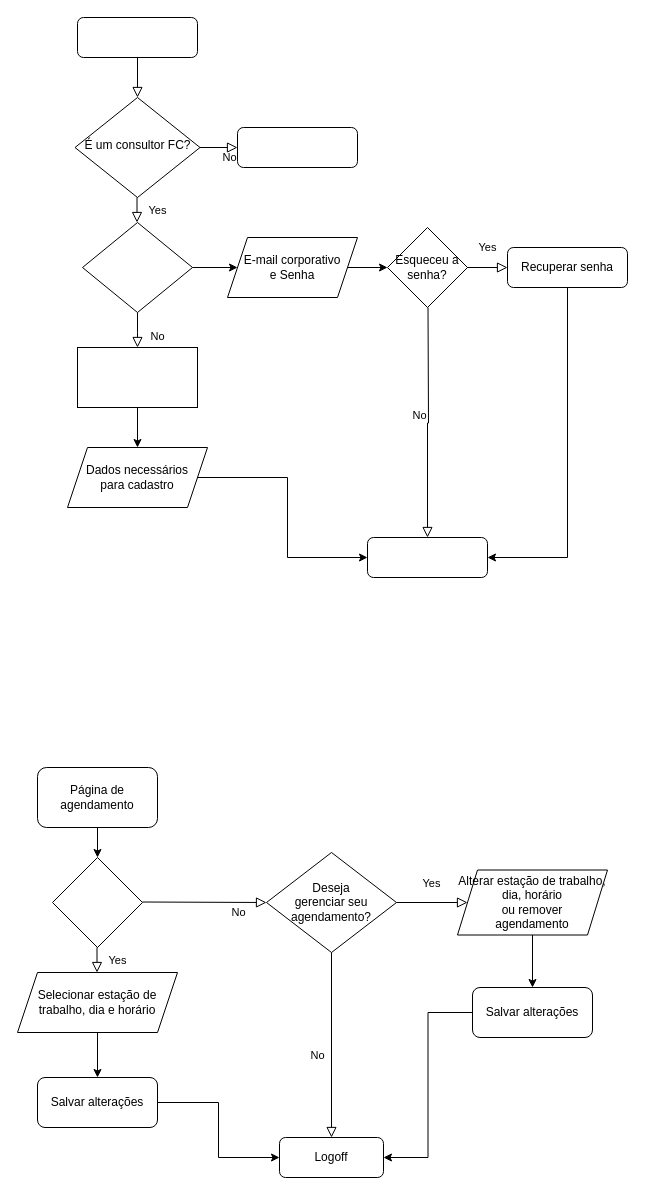
Some shapes in this 645 by 1195 pixel diagram are drawn without their labels. The shapes that lost their labels are listed below. From the top down, each one's box as (x1, y1, x2, y2) in pixels, then its label:
(76, 16, 198, 58): Página de login/cadastro
(236, 126, 358, 168): Acesso negado
(82, 222, 192, 312): Tem cadastro?
(76, 346, 198, 408): Realizar Cadastro
(366, 536, 488, 578): Realizar login
(52, 856, 142, 948): Deseja agendar um horário?
